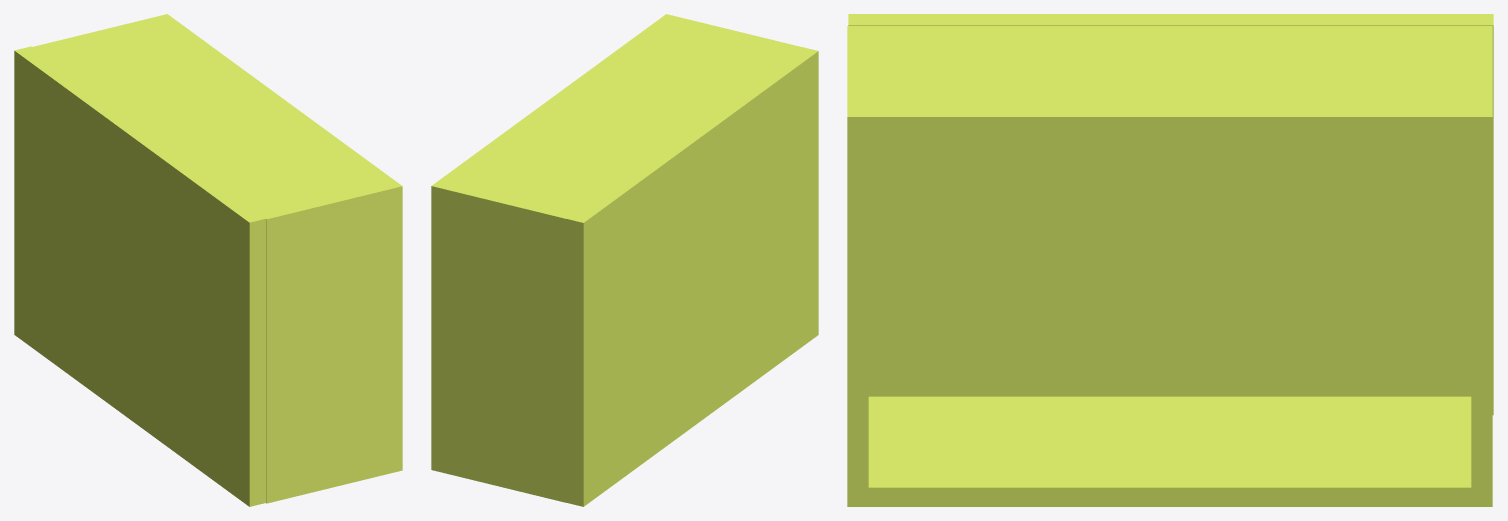
Rendered from Big_box.dae.
The picture shows the model from 3 angles, left to right: view 1: azimuth 30°, elevation 25°; view 2: azimuth 150°, elevation 25°; view 3: azimuth 270°, elevation 25°; orthographic projection. The views are drawn at different scales.
Parts seen in each view (by area): view 1: Big_box; view 2: Big_box; view 3: Big_box.
Part boxes in pixels (x1,y1,x2,y2): Big_box: (14,14,402,506); Big_box: (431,14,818,506); Big_box: (847,14,1493,506).
Bounding box in the file's own units: 0.225 × 0.6009 × 0.4007.
